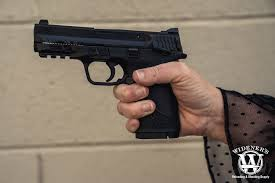gun: (31, 18, 193, 142)
